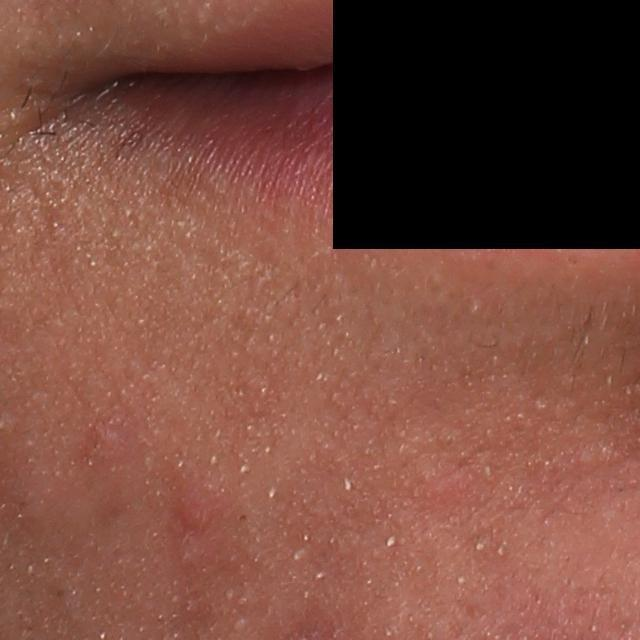papule: (77, 412, 137, 457), (174, 495, 216, 532)
